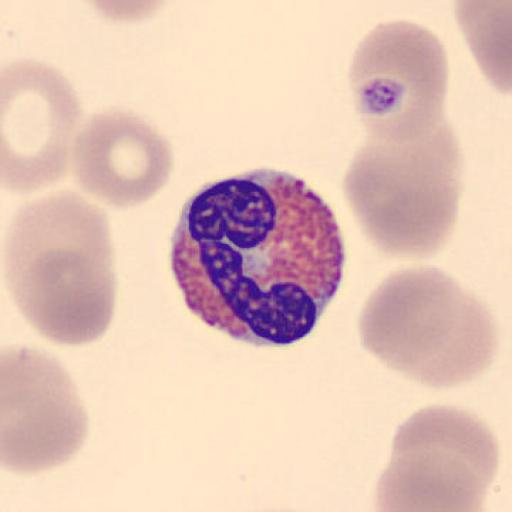RBC: (356, 264, 498, 392), (2, 188, 116, 346), (342, 132, 466, 262), (345, 17, 450, 148), (386, 402, 500, 511), (1, 345, 91, 476), (68, 104, 175, 210), (2, 55, 82, 196), (8, 246, 117, 346), (372, 453, 483, 512), (452, 0, 511, 97), (74, 0, 183, 24)
WBC: (166, 166, 348, 347)
